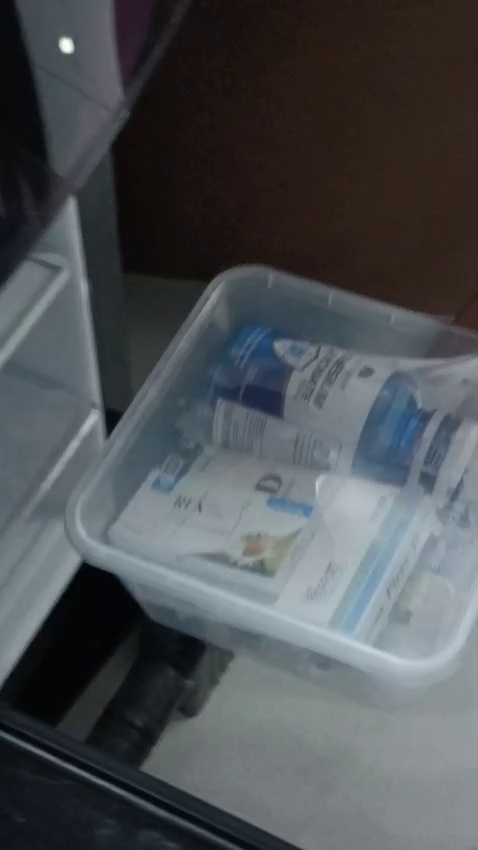medicine box: (56, 220, 460, 703)
